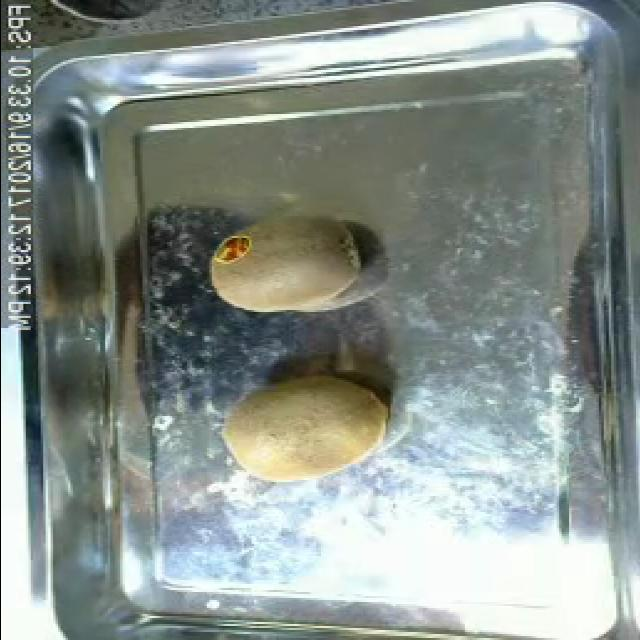Fruit: (213, 364, 397, 492), (201, 200, 372, 322)
